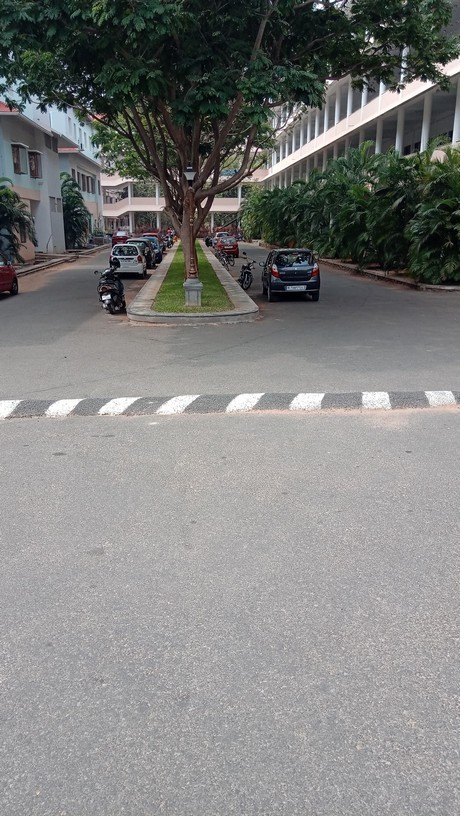bump: (1, 389, 460, 422)
